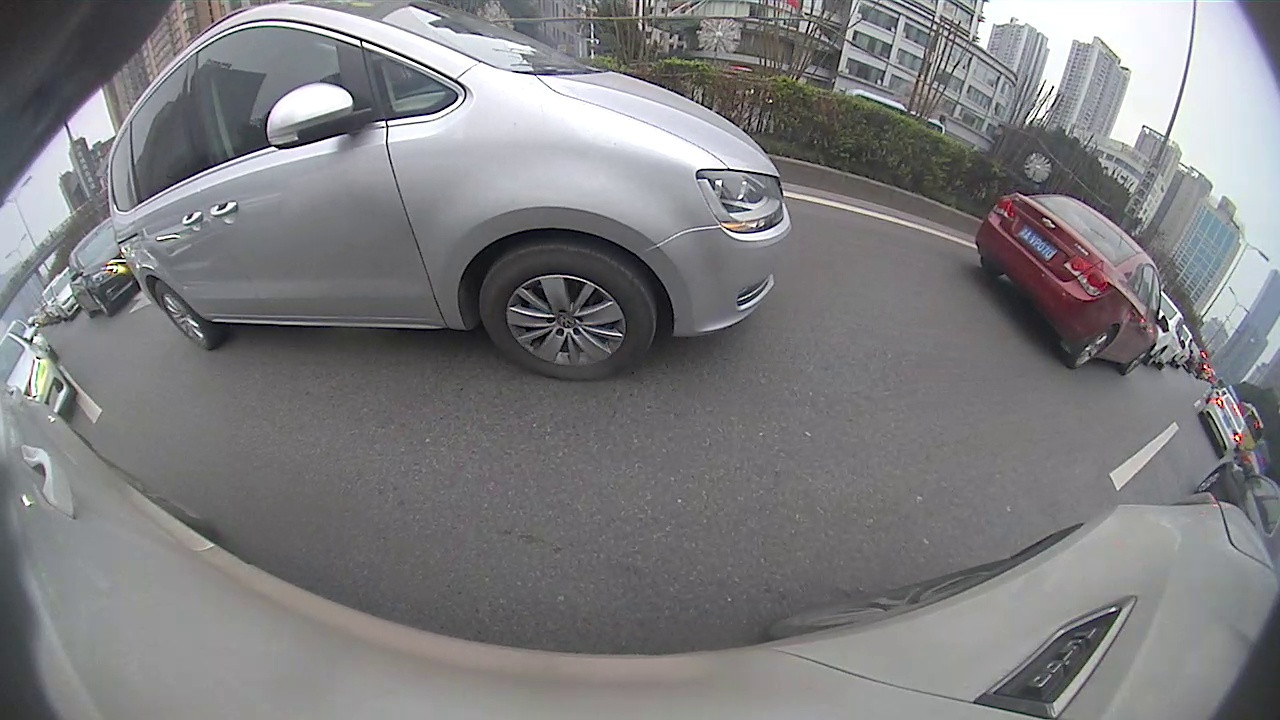car: (103, 2, 791, 383), (973, 192, 1172, 378), (66, 216, 143, 318), (1198, 390, 1248, 461)
front: (477, 252, 657, 382)
rear: (151, 278, 216, 351), (1065, 327, 1118, 372)
